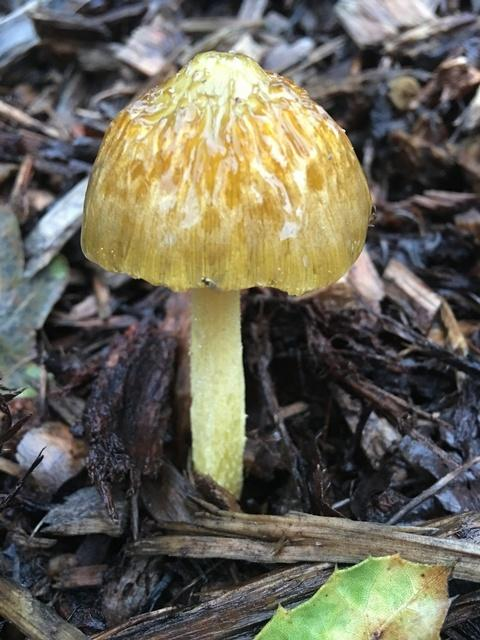edible_mushroom: (79, 49, 374, 504)
